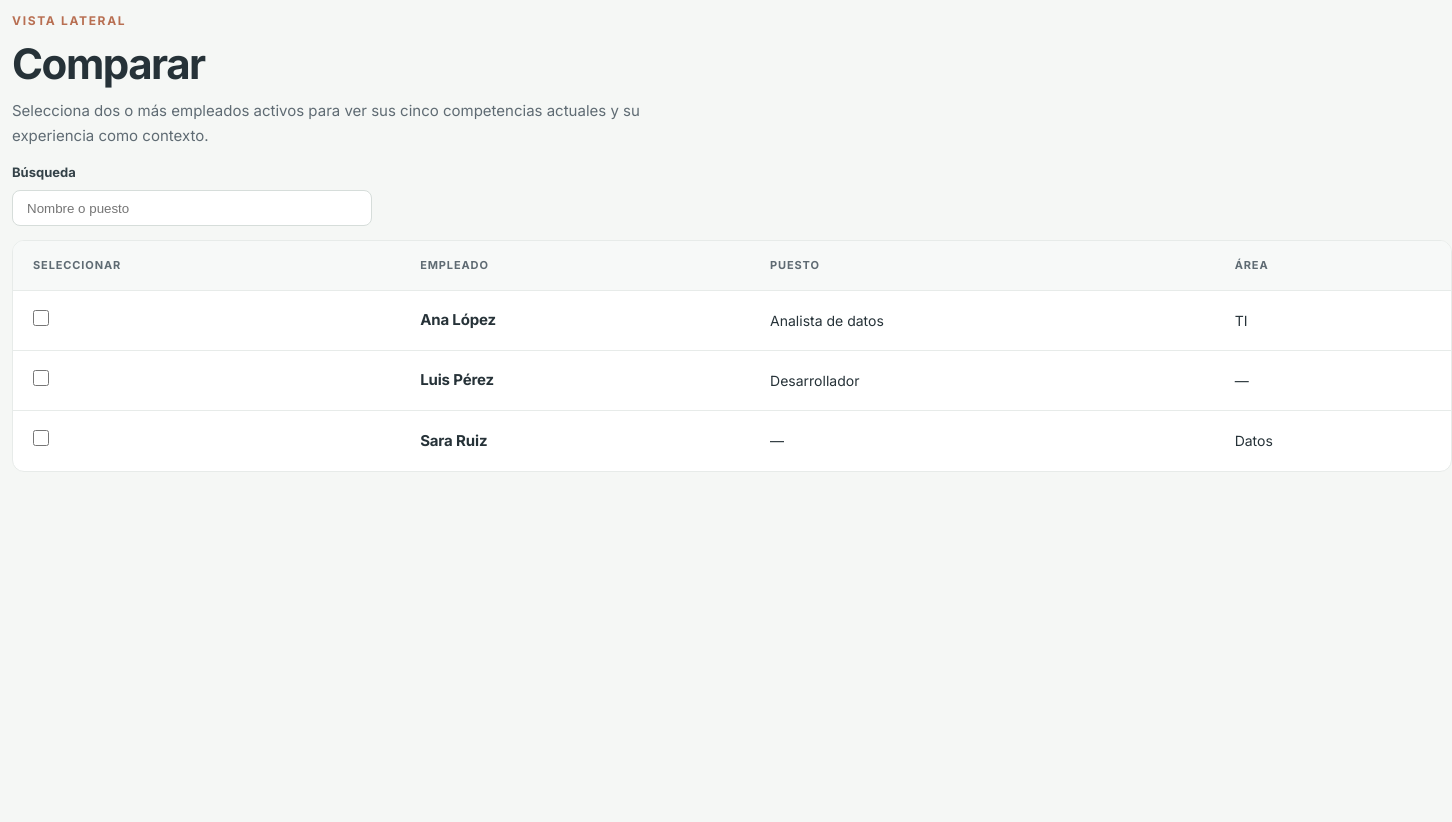
Scenario: Comparar — selección (paso 1) › con 2 o más la barra habilita Comparar y el conteo es plural
Expected: the column heading "Ana López" is shown, [400,290,750,350]
What coordinates should you click on to do the following:
click the checkbox named "Seleccionar a Ana López"
I would click on:
 (41, 318)
Its box is [33,310,49,326].
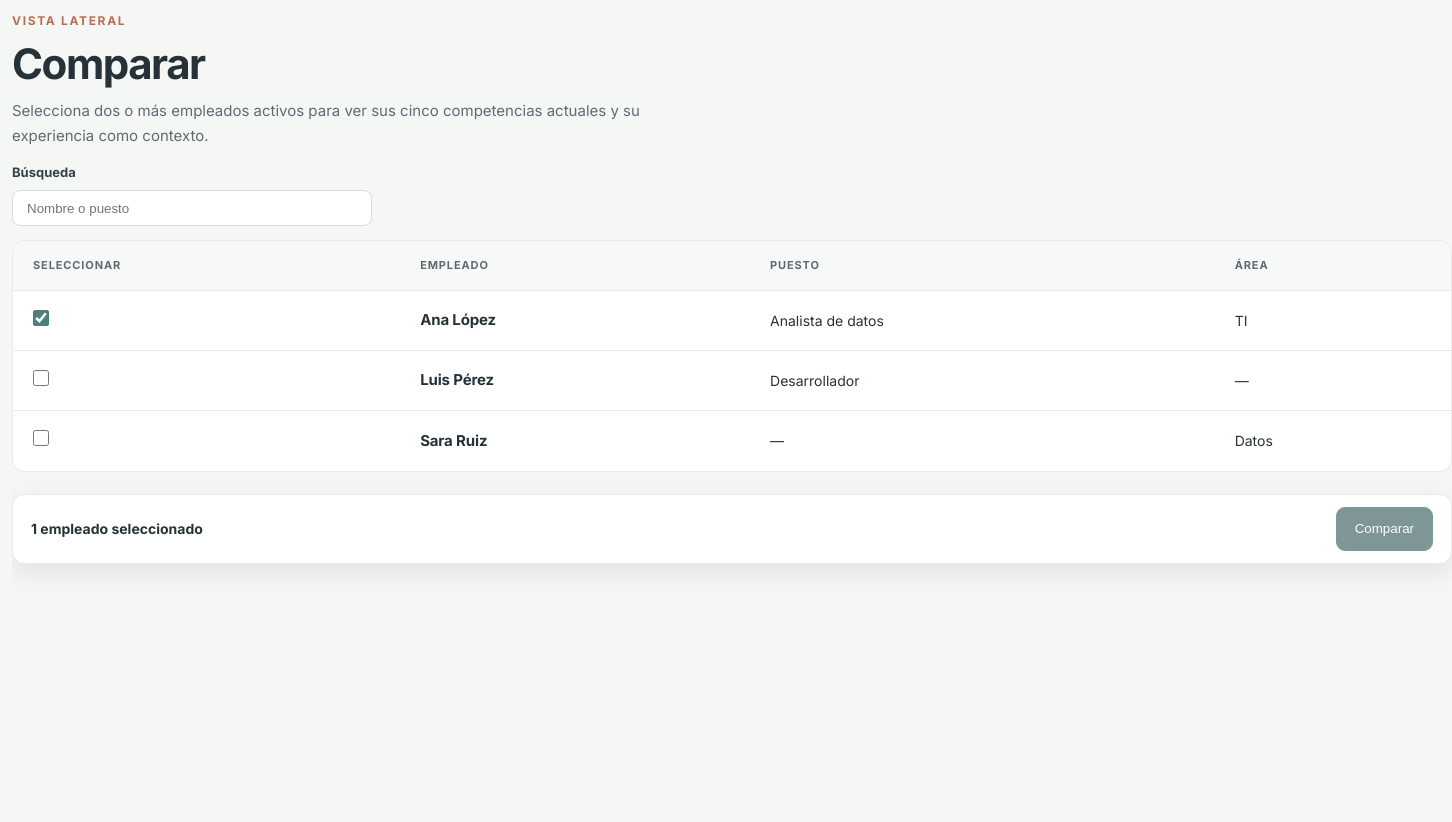
What coordinates should you click on to do the following:
click the checkbox named "Seleccionar a Luis Pérez"
I would click on:
 (41, 378)
Its box is [33,370,49,386].
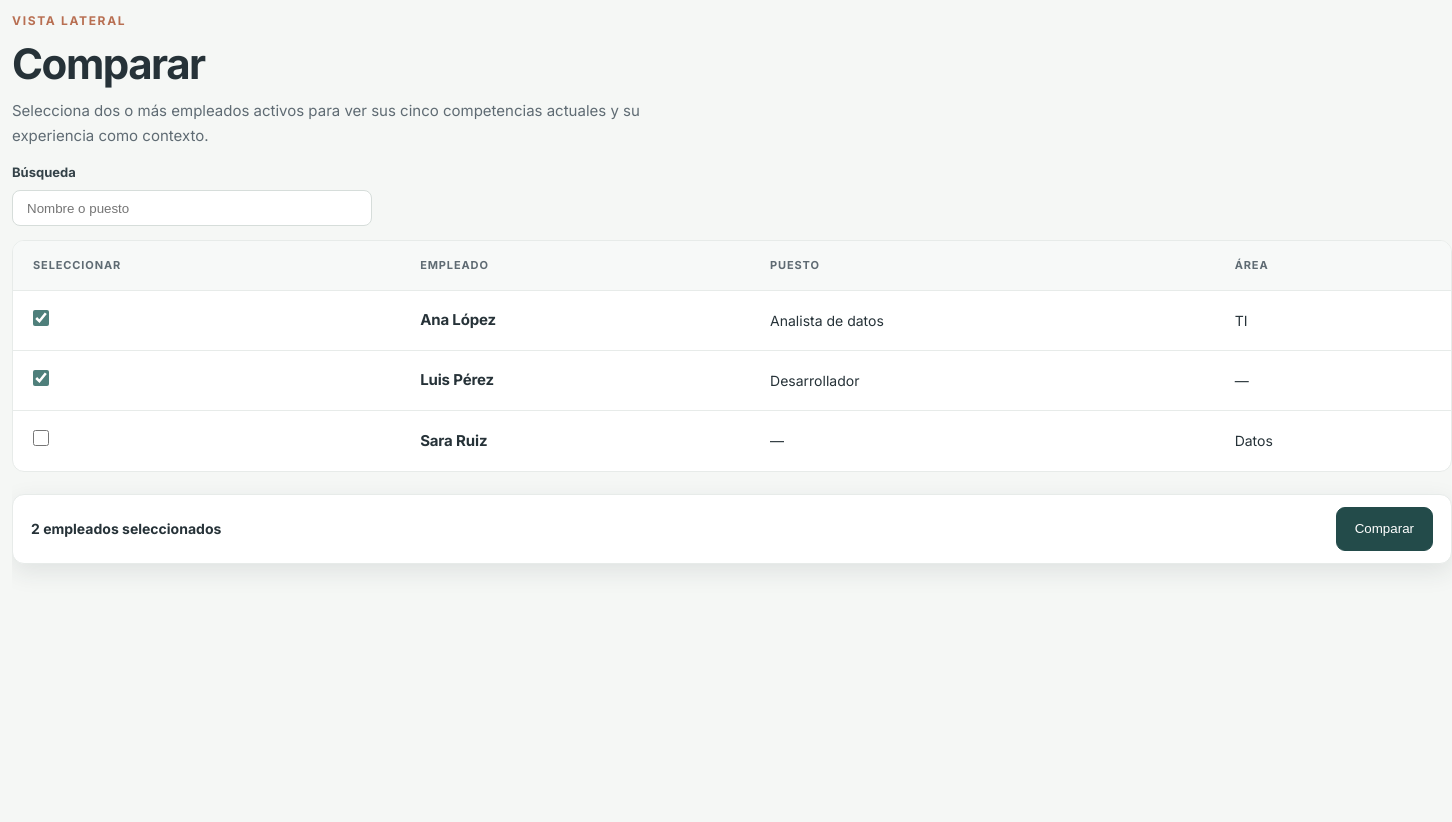
Expected: the text "2 empleados seleccionados" is shown, [31,518,221,539]
Expected: the button "Comparar" is enabled, [1336,506,1433,550]
What coordinates should you click on to do the following:
click the checkbox named "Seleccionar a Sara Ruiz"
I would click on:
 (41, 438)
Its box is [33,430,49,446].
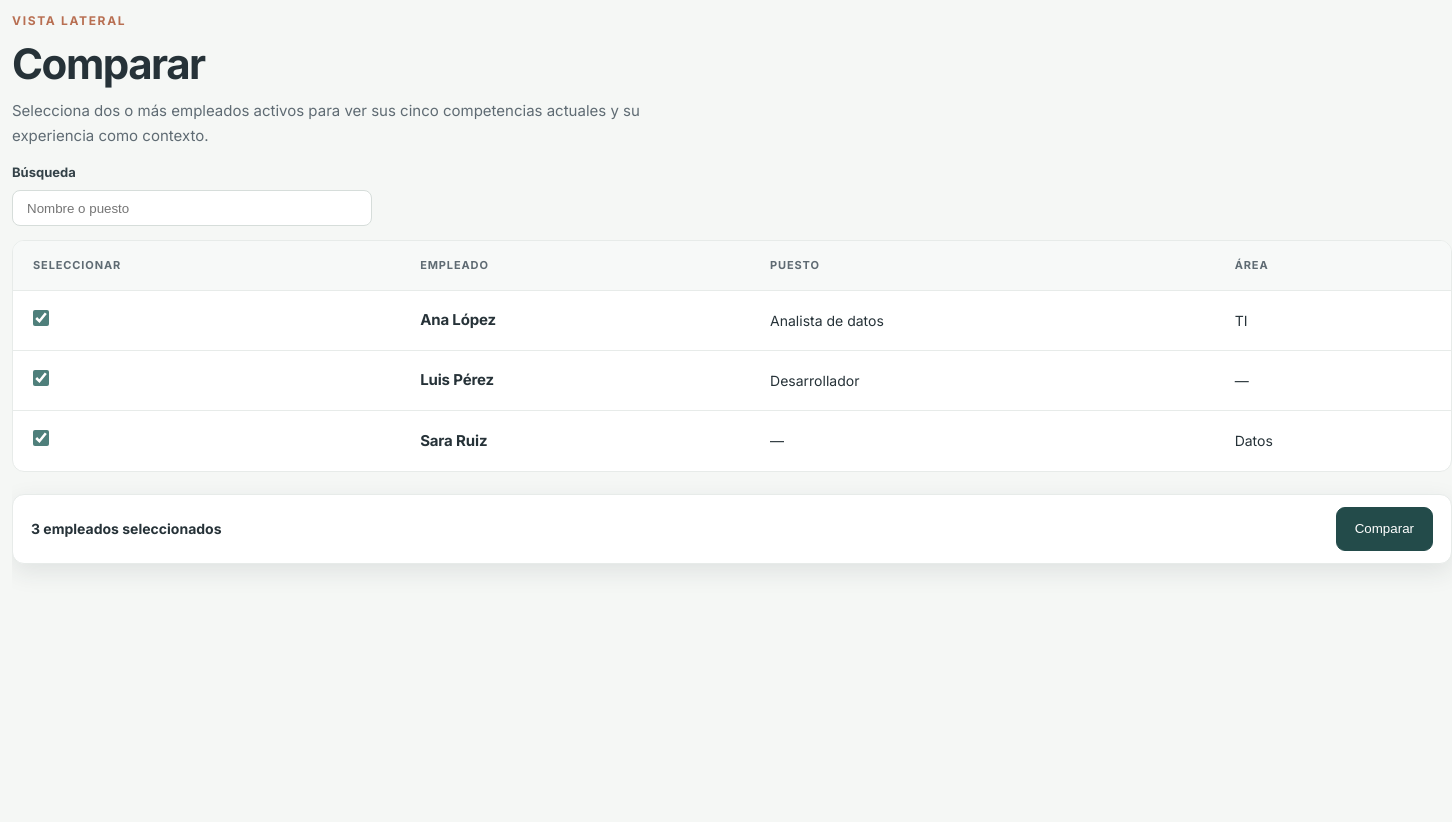
Expected: the text "3 empleados seleccionados" is shown, [31,518,222,539]
